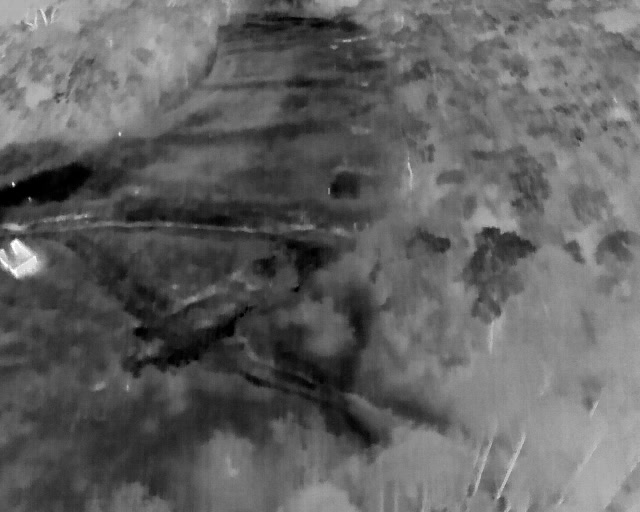car: (301, 261, 315, 284)
person: (301, 275, 306, 284)
